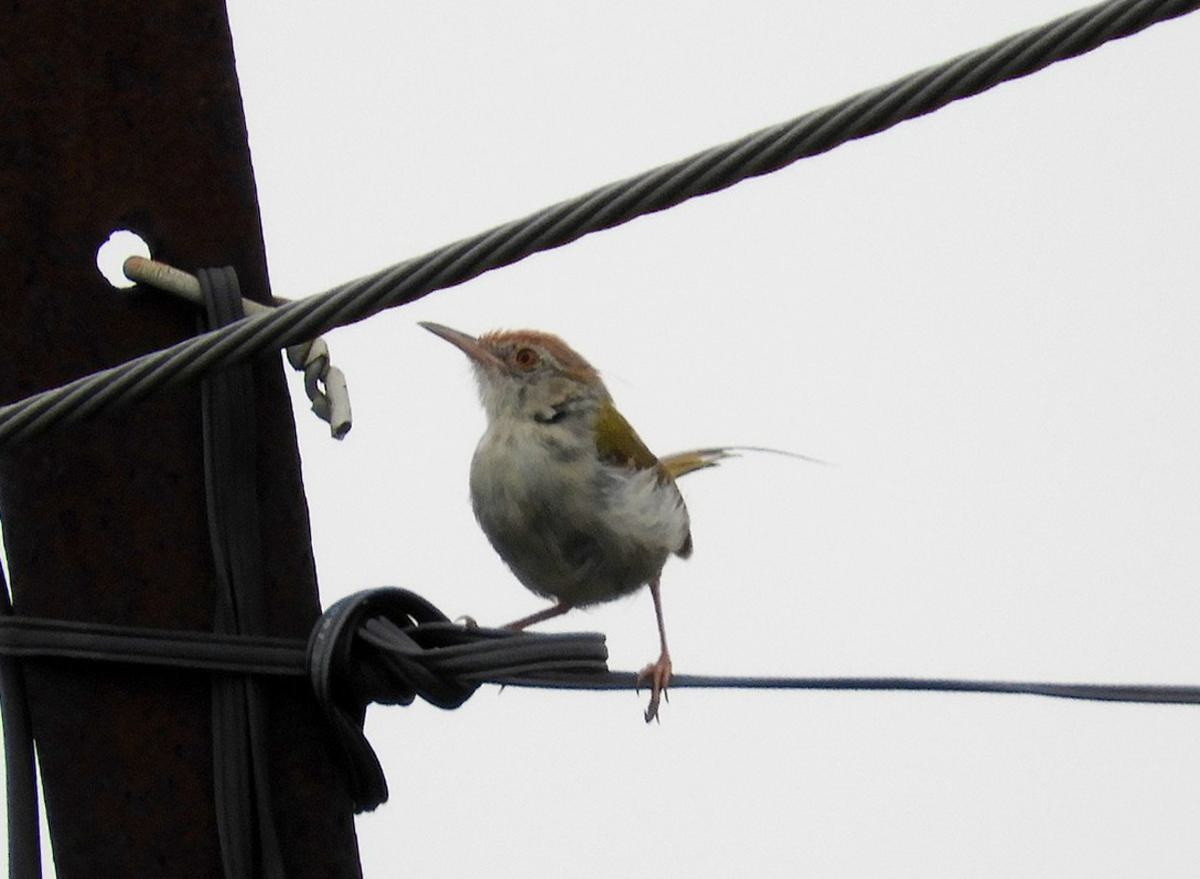tailorbird: (397, 289, 743, 712)
